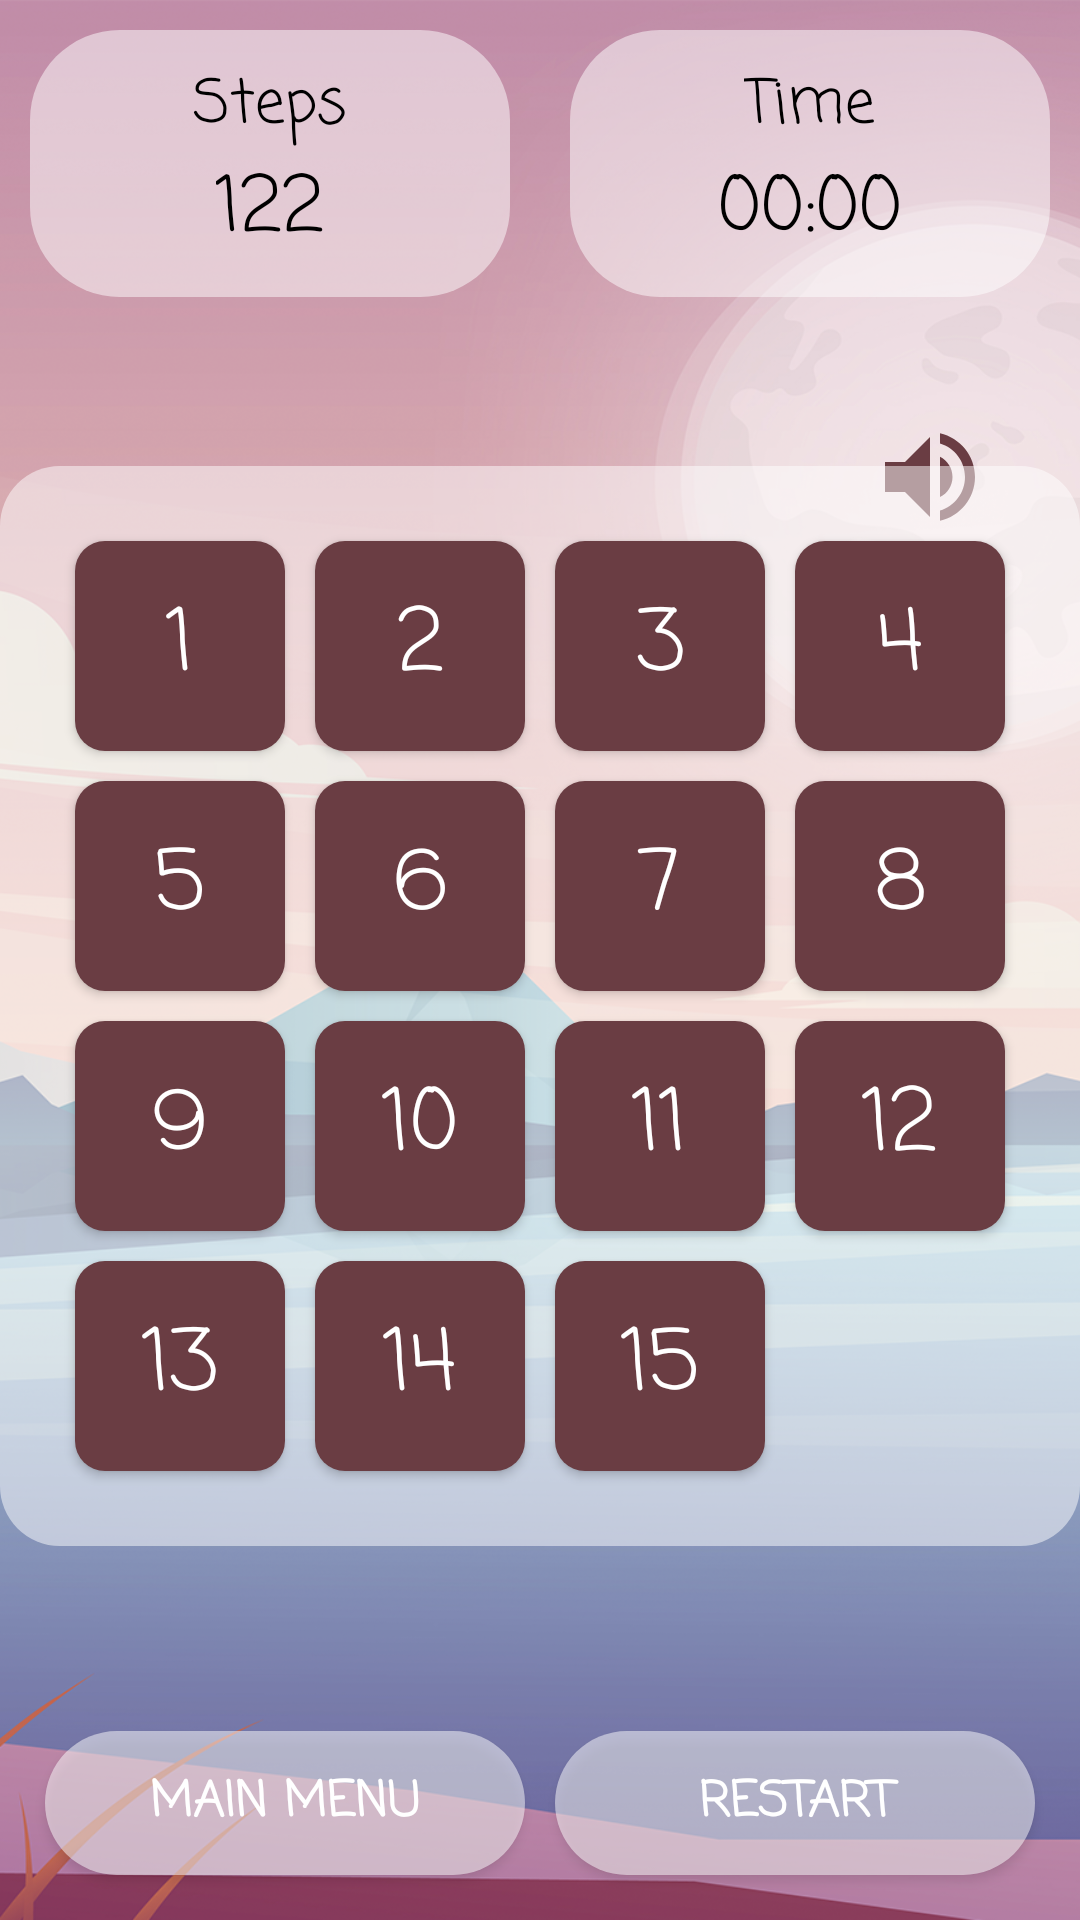

Locate icon controls on the screen. Image size 1080*1920, boxes as (left=x1, top=y1, right=x2, bottom=y2).
volume up: (left=870, top=433, right=990, bottom=537)
